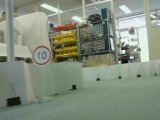speed_10: (31, 45, 52, 66)
